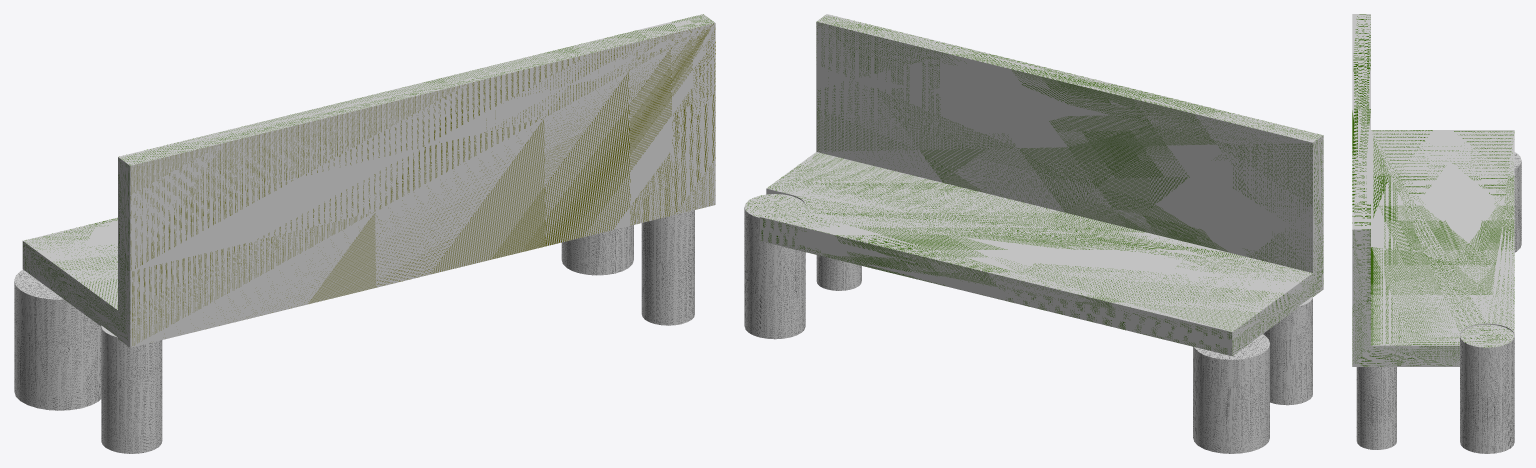
3 views of the same model, side by side, from view 1: azimuth 30°, elevation 25°; view 2: azimuth 150°, elevation 25°; view 3: azimuth 270°, elevation 25° (orthographic). The views are drawn at different scales.
Parts seen in each view (by area): view 1: mesh1_mesh1-geometry, mesh2_mesh2-geometry, mesh3_mesh3-geometry, mesh4_mesh4-geometry; view 2: mesh1_mesh1-geometry, mesh2_mesh2-geometry, mesh3_mesh3-geometry, mesh4_mesh4-geometry; view 3: mesh1_mesh1-geometry, mesh4_mesh4-geometry, mesh2_mesh2-geometry.
Boxes of the visible parts, box(x1,y1,x2,y2) form: mesh1_mesh1-geometry: box(22, 14, 715, 347); mesh2_mesh2-geometry: box(14, 269, 101, 410); mesh3_mesh3-geometry: box(101, 325, 162, 453); mesh4_mesh4-geometry: box(641, 210, 694, 325); mesh1_mesh1-geometry: box(744, 14, 1323, 356); mesh2_mesh2-geometry: box(1193, 334, 1269, 453); mesh3_mesh3-geometry: box(1263, 296, 1312, 405); mesh4_mesh4-geometry: box(816, 255, 861, 290); mesh1_mesh1-geometry: box(1352, 14, 1514, 453); mesh4_mesh4-geometry: box(1356, 367, 1396, 449); mesh2_mesh2-geometry: box(1514, 152, 1521, 252).
Size of the model in its own units: 0.8712 by 0.4045 by 0.2781.
